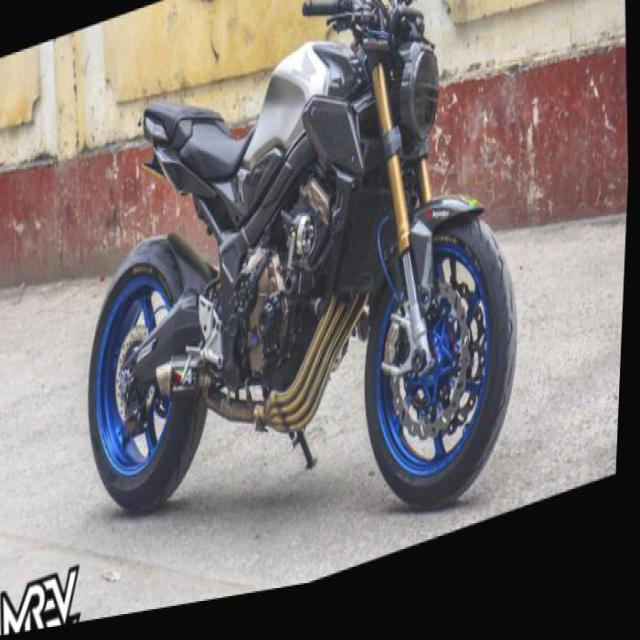CB650R: (65, 0, 546, 627)
